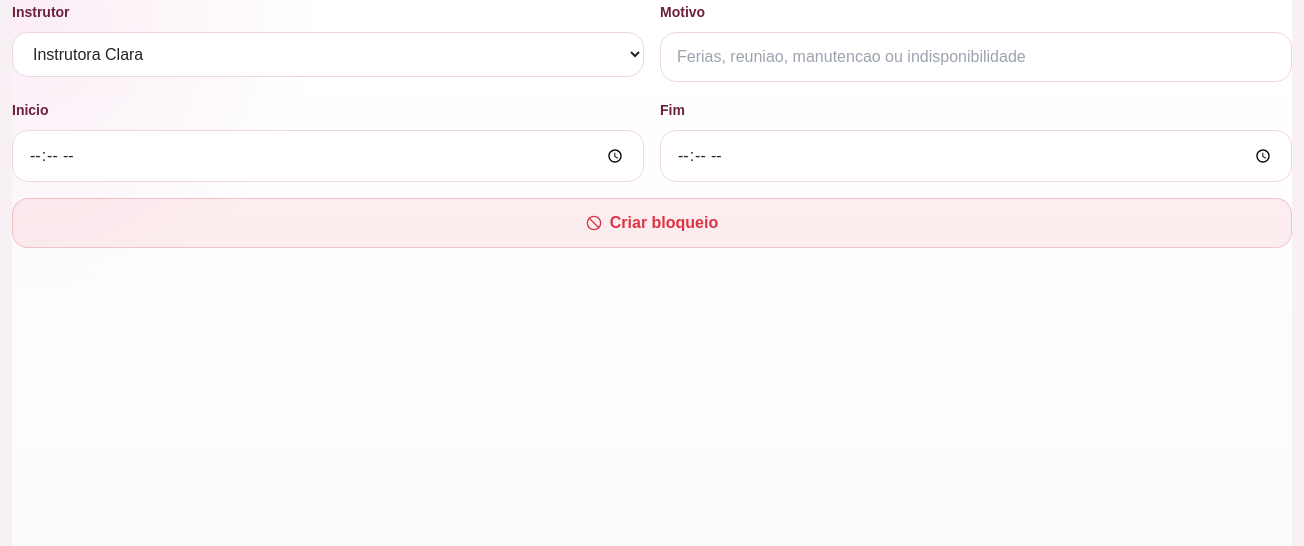
CreateBlockForm › protege contra duplo clique durante submissão
Type "Manutenção" into the field labelled "Motivo" at point(976, 57), box x1=660 y1=32 x2=1292 y2=82
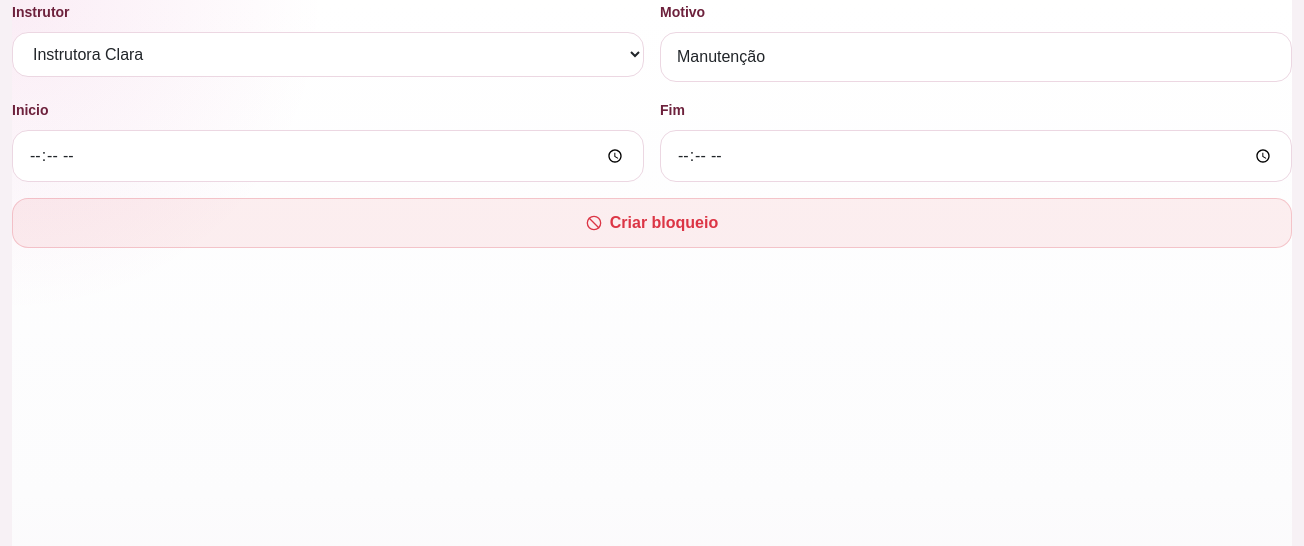
Type "10:00" into the time field labelled "Inicio" at point(328, 156), box x1=12 y1=130 x2=644 y2=182
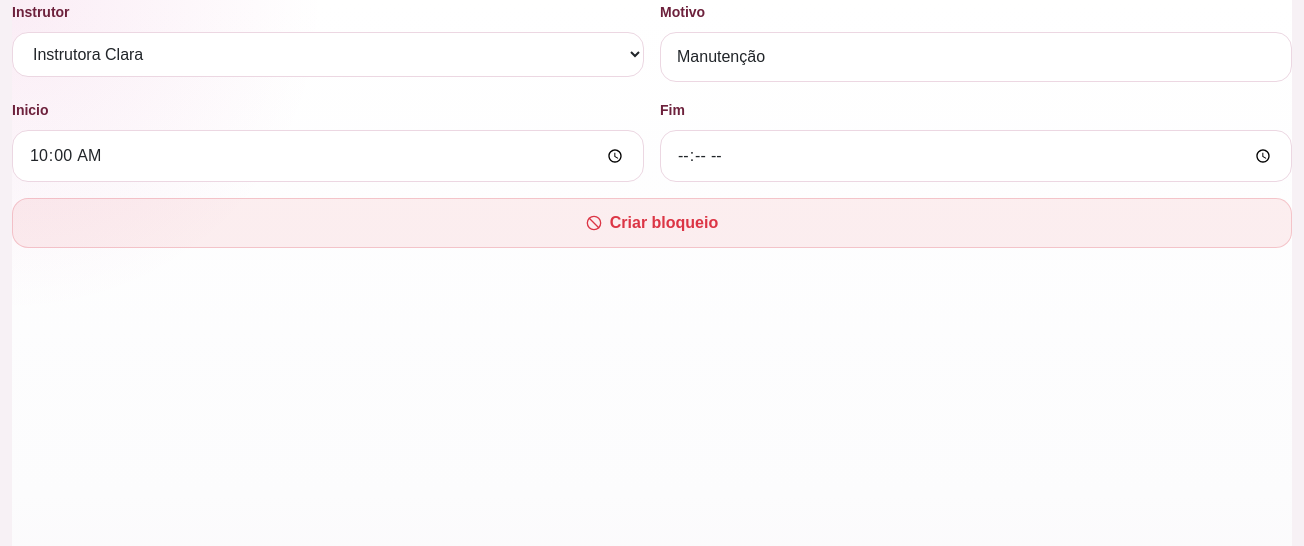
Type "11:00" into the time field labelled "Fim" at point(976, 156), box x1=660 y1=130 x2=1292 y2=182
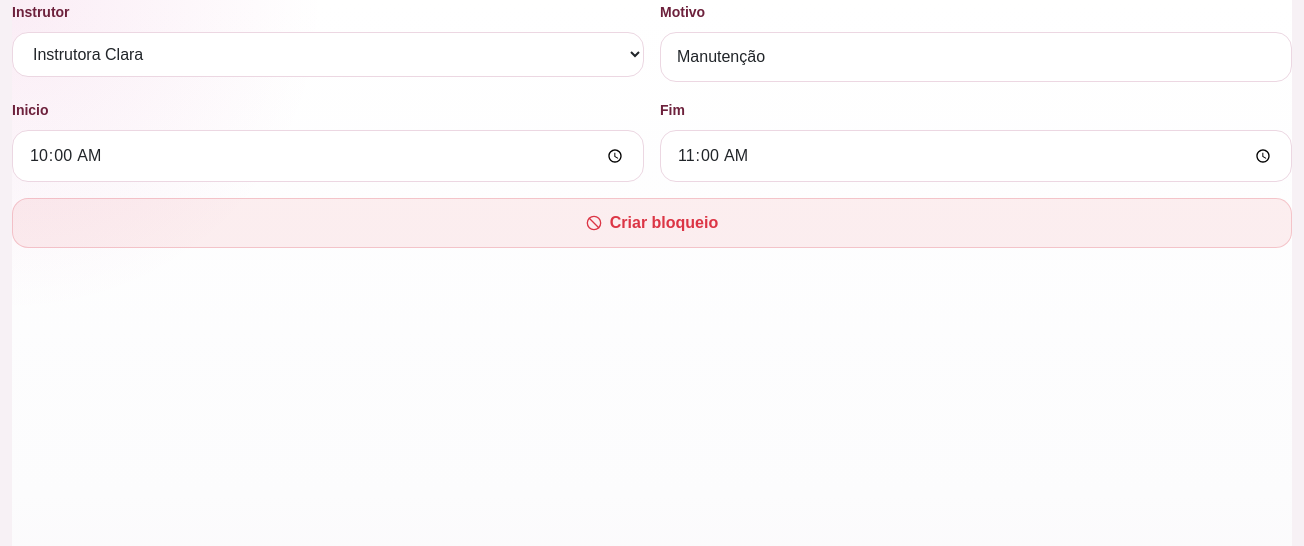
Submit the form "Criar bloqueio", box x1=12 y1=0 x2=1292 y2=248
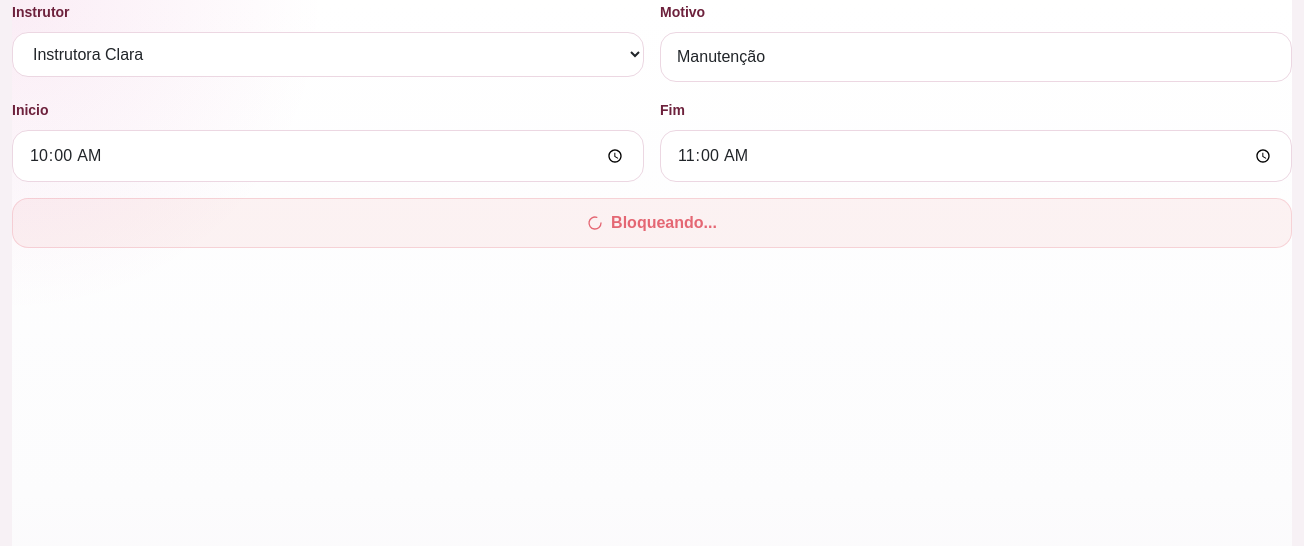
Submit the form named "Criar bloqueio", box x1=12 y1=0 x2=1292 y2=248
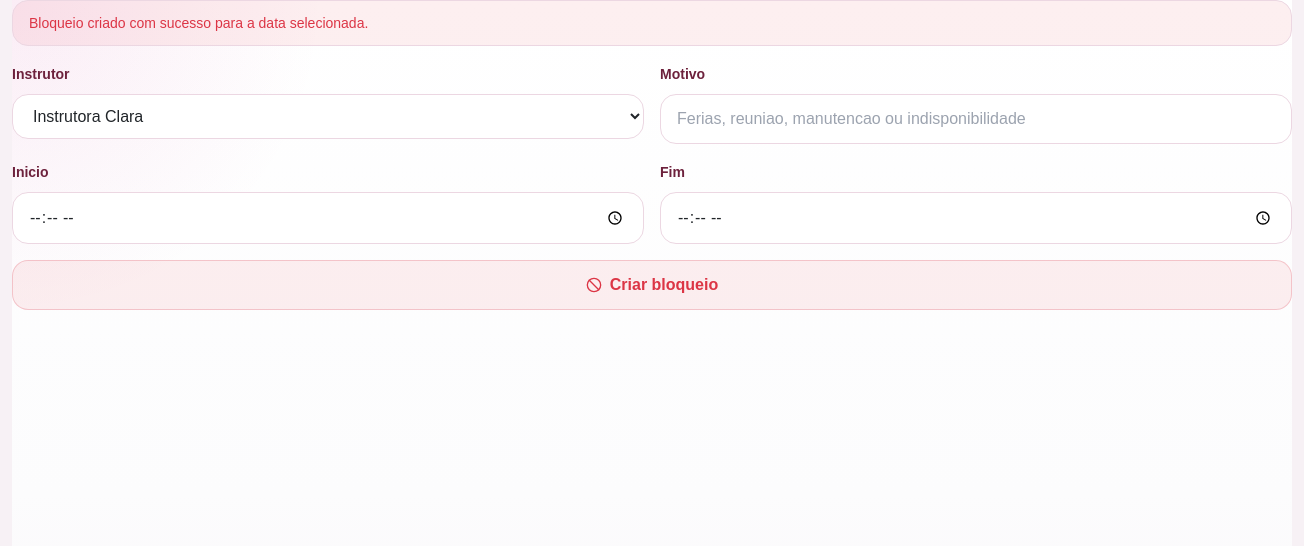
Now the message reads "Bloqueio criado com sucesso para a data selecionada.", box x1=29 y1=15 x2=368 y2=31
